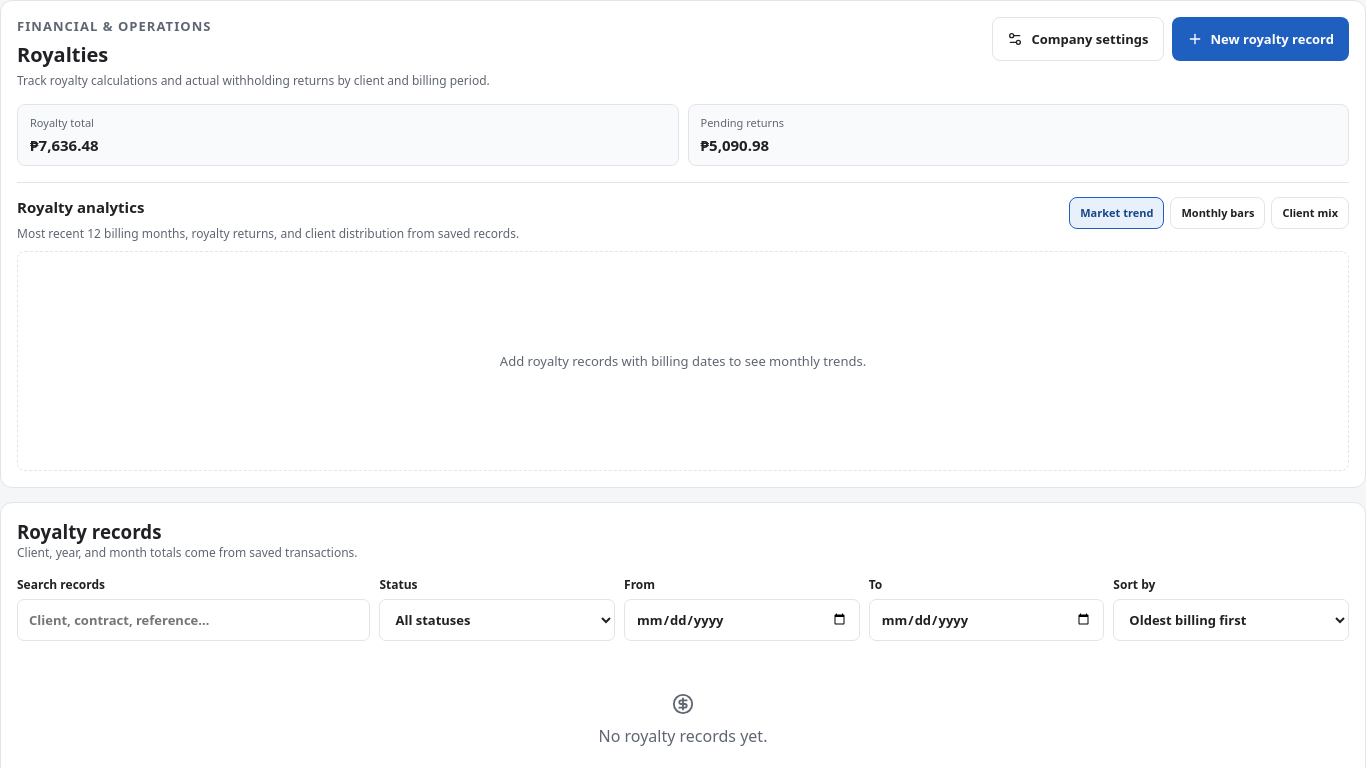
Scenario: RoyaltiesWorkspace › keeps project and supplier selection available in advanced settings
The image size is (1366, 768).
Click the button "New royalty record" at (1260, 39), box [1172,17,1349,61]
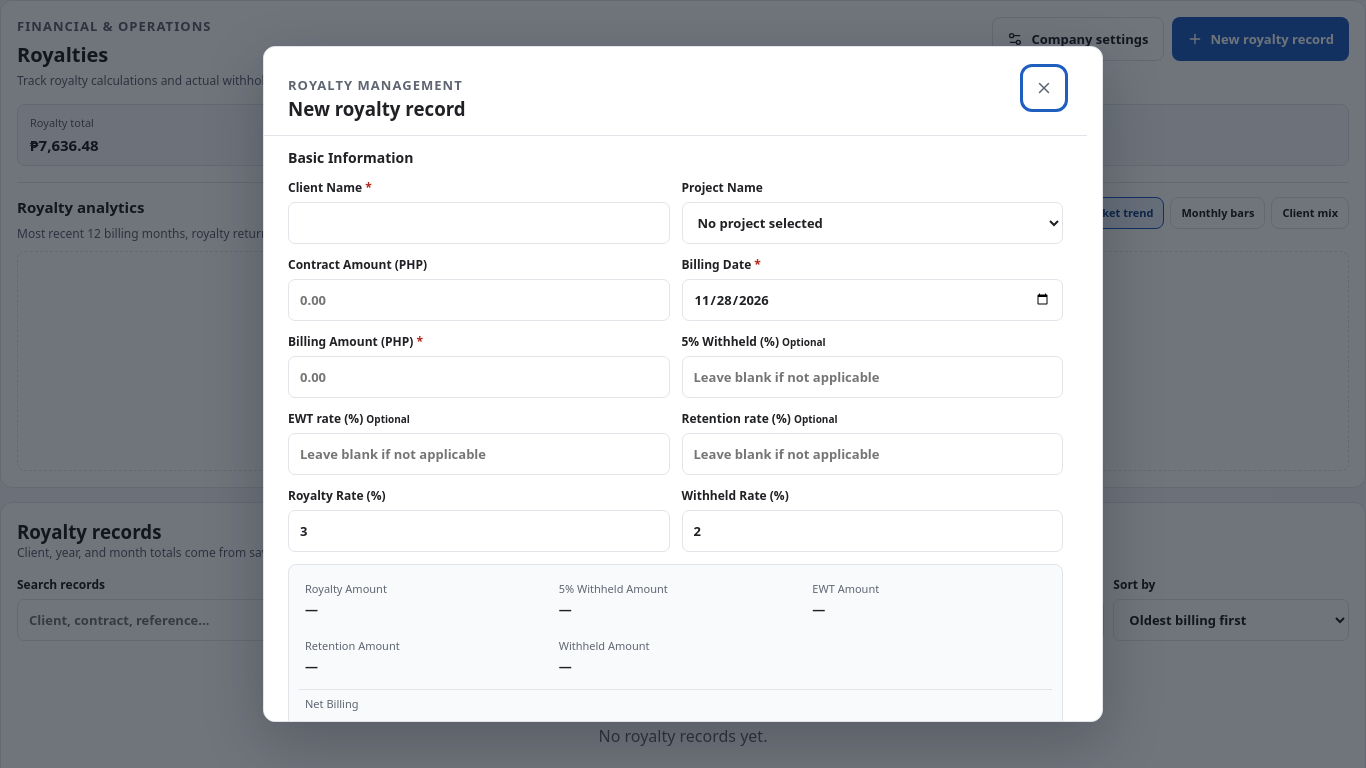
Select "Warehouse Project" in the dropdown labelled "Project Name" at (872, 223), box [682,202,1063,244]
(page scrolled)
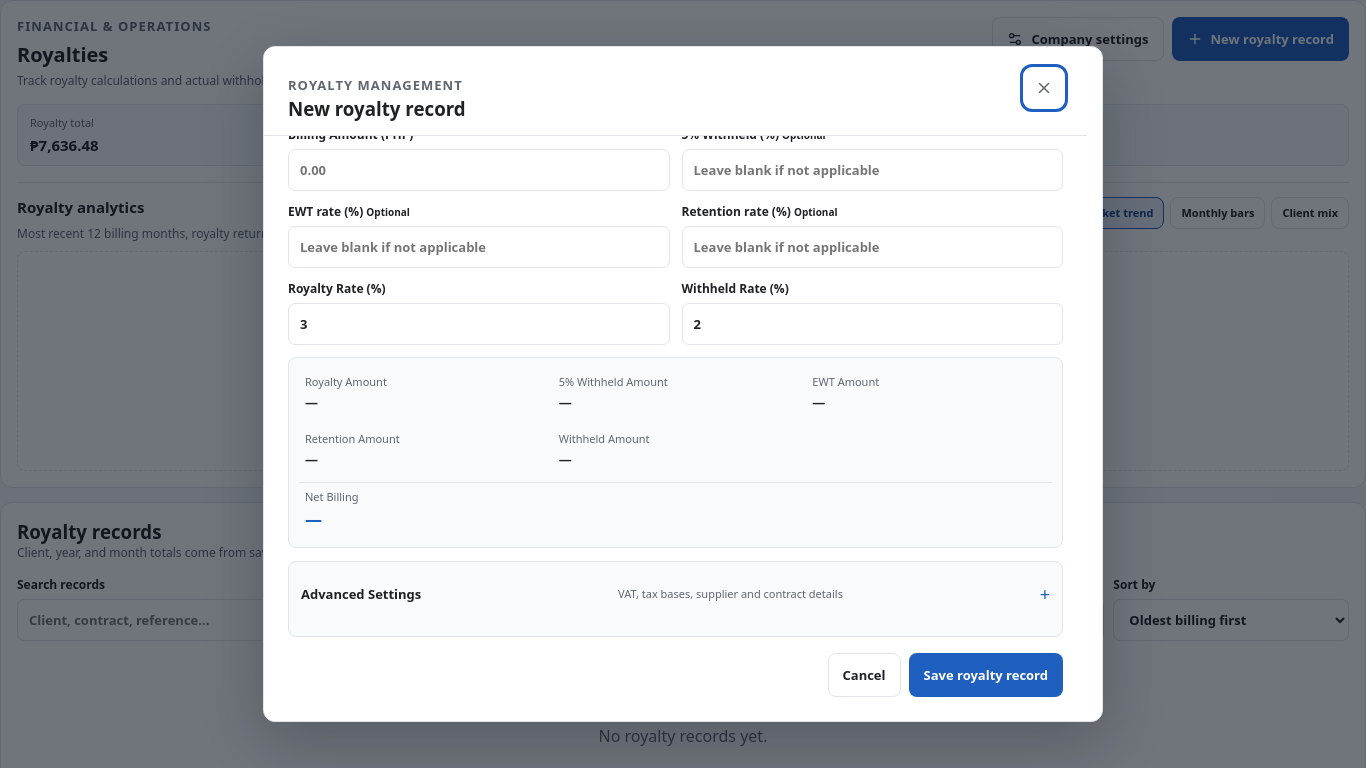
Click the text "Advanced Settings" at (361, 594), box [301,585,421,603]
(page scrolled)
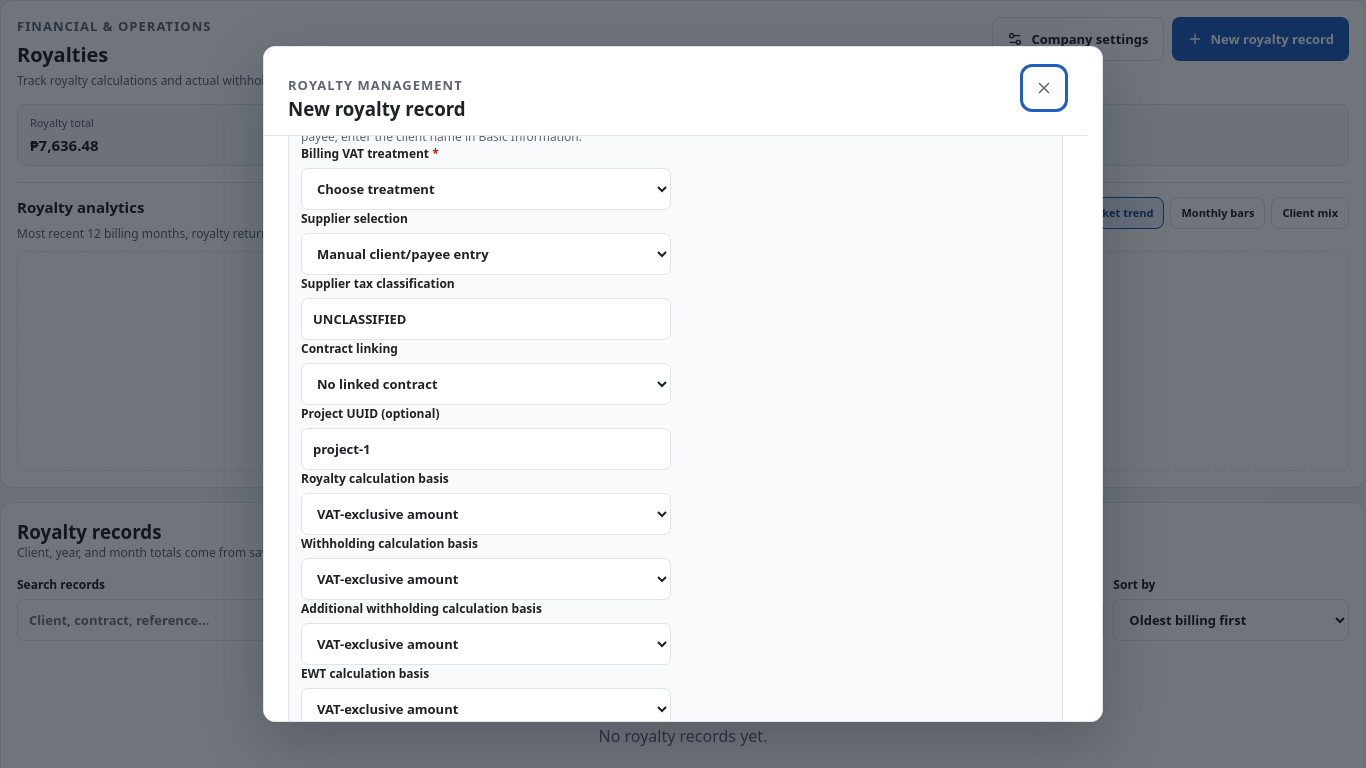
Select "Warehouse Construction · John" in the dropdown labelled "Contract linking" at (486, 384), box [301,363,670,405]
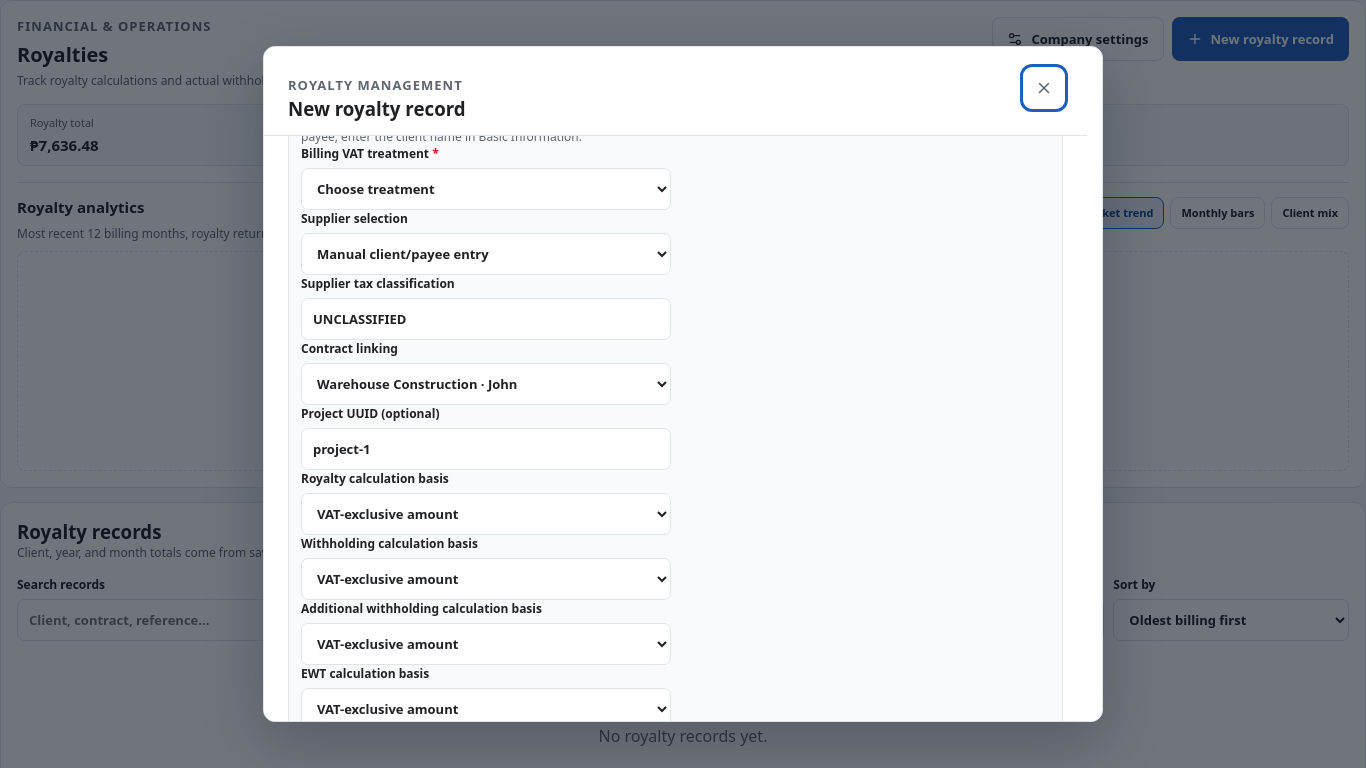
Expected: the field labelled "Project UUID (optional)" holds "project-1", [301,428,670,470]
Select "John Ltd · NON_VAT" in the dropdown labelled "Supplier selection" at (486, 254), box [301,233,670,275]
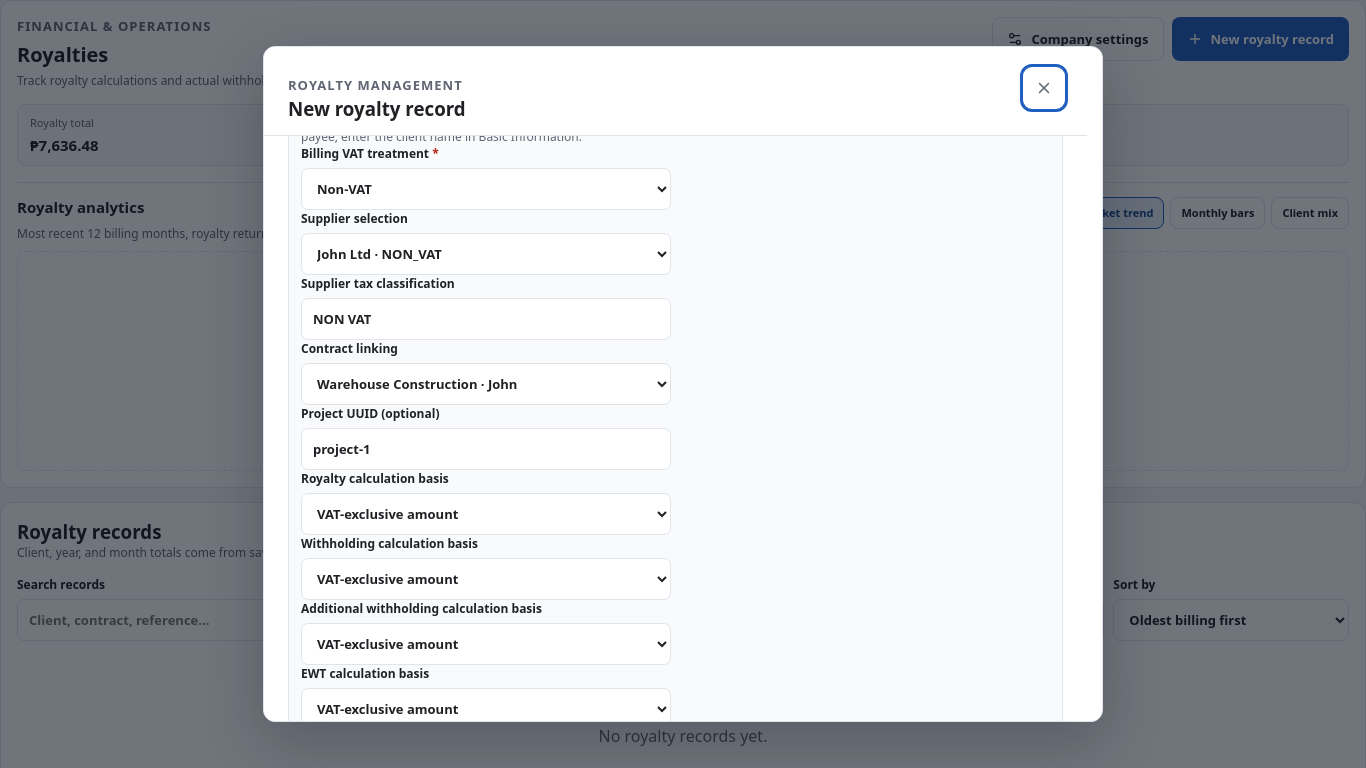
Expected: the field labelled "Supplier tax classification" holds "NON VAT", [301,298,670,340]
